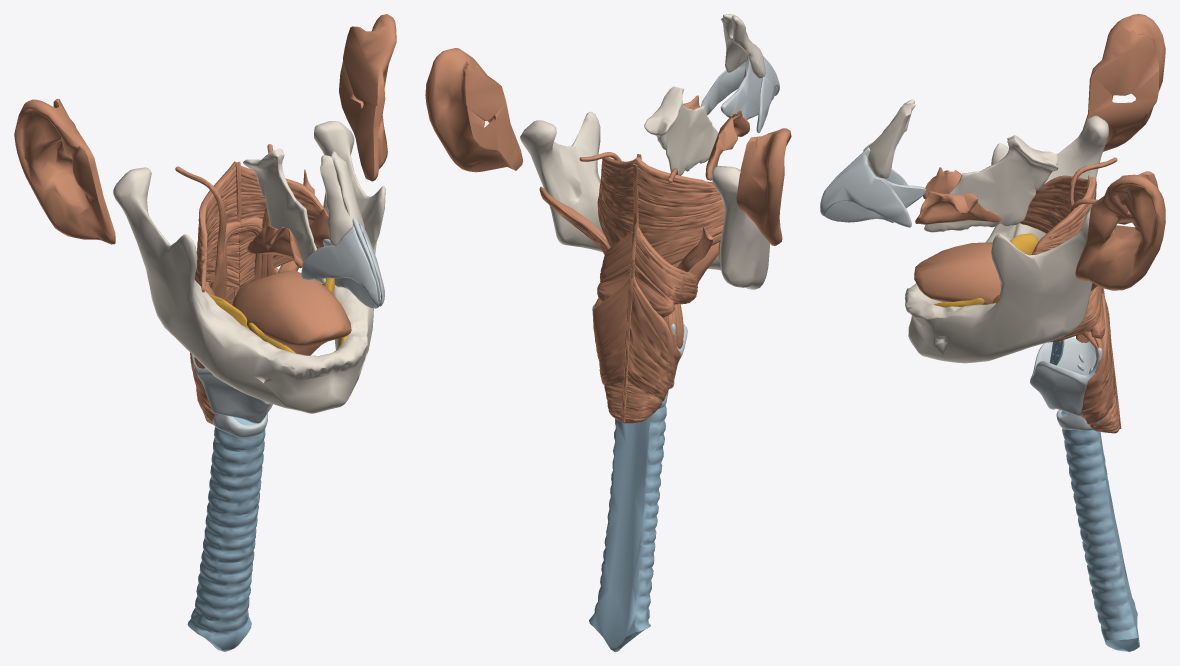
Rendered from tht.glb.
The picture shows the model from 3 angles, left to right: view 1: azimuth 30°, elevation 25°; view 2: azimuth 150°, elevation 25°; view 3: azimuth 270°, elevation 25°; orthographic projection. The views are drawn at different scales.
Visible parts, largest first — view 1: Mandible, External ear, Trachea, Tongue, Right superior pharyngeal constrictor, Vomer, Left superior pharyngeal constrictor, Right lateral nasal cartilage, Thyroid cartilage, Right nasal bone, Right inferior nasal concha, Septal nasal cartilage (+5 smaller); view 2: External ear, Trachea, Mandible, Right superior pharyngeal constrictor, Right inferior pharyngeal constrictor, Vomer, Left inferior pharyngeal constrictor, Left middle pharyngeal constrictor, Left superior pharyngeal constrictor, Right middle pharyngeal constrictor, Septal nasal cartilage, Pharyngeal raphe (+7 smaller); view 3: Mandible, External ear, Trachea, Vomer, Tongue, Thyroid cartilage, Left lateral nasal cartilage, Left inferior pharyngeal constrictor, Right superior pharyngeal constrictor, Left inferior nasal concha, Septal nasal cartilage, Left nasal bone (+3 smaller).
Boxes of the visible parts, x1,y1,x2,y2 form: Mandible: (113,121,385,413); External ear: (14,14,396,244); Trachea: (187,417,265,651); Tongue: (232,270,351,355); Right superior pharyngeal constrictor: (194,161,239,292); Vomer: (243,148,325,283); Left superior pharyngeal constrictor: (234,161,324,288); Right lateral nasal cartilage: (301,226,378,306); Thyroid cartilage: (191,354,272,423); Right nasal bone: (320,155,353,245); Right inferior nasal concha: (247,225,303,268); Septal nasal cartilage: (323,218,380,308); External ear: (425,48,791,245); Trachea: (589,405,666,651); Mandible: (520,111,770,289); Right superior pharyngeal constrictor: (635,157,724,264); Right inferior pharyngeal constrictor: (624,276,680,423); Vomer: (644,86,718,175); Left inferior pharyngeal constrictor: (593,278,630,421); Left middle pharyngeal constrictor: (634,227,697,317); Left superior pharyngeal constrictor: (597,157,638,247); Right middle pharyngeal constrictor: (597,228,632,301); Septal nasal cartilage: (720,55,775,119); Pharyngeal raphe: (621,154,641,422); Mandible: (904,115,1108,363); External ear: (1075,14,1165,290); Trachea: (1061,411,1139,651); Vomer: (924,135,1058,232); Tongue: (914,242,1029,304); Thyroid cartilage: (1030,337,1103,426); Left lateral nasal cartilage: (820,154,911,227); Left inferior pharyngeal constrictor: (1080,293,1119,433); Right superior pharyngeal constrictor: (1019,175,1091,233); Left inferior nasal concha: (915,191,1001,224); Septal nasal cartilage: (820,147,925,222); Left nasal bone: (868,103,915,178).
Bounding box in the file's own units: 1.33 × 2 × 1.13.
